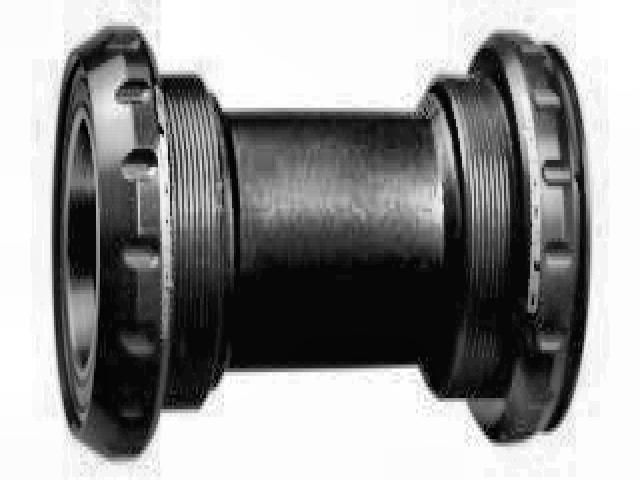bottom_bracket: (49, 21, 593, 464)
